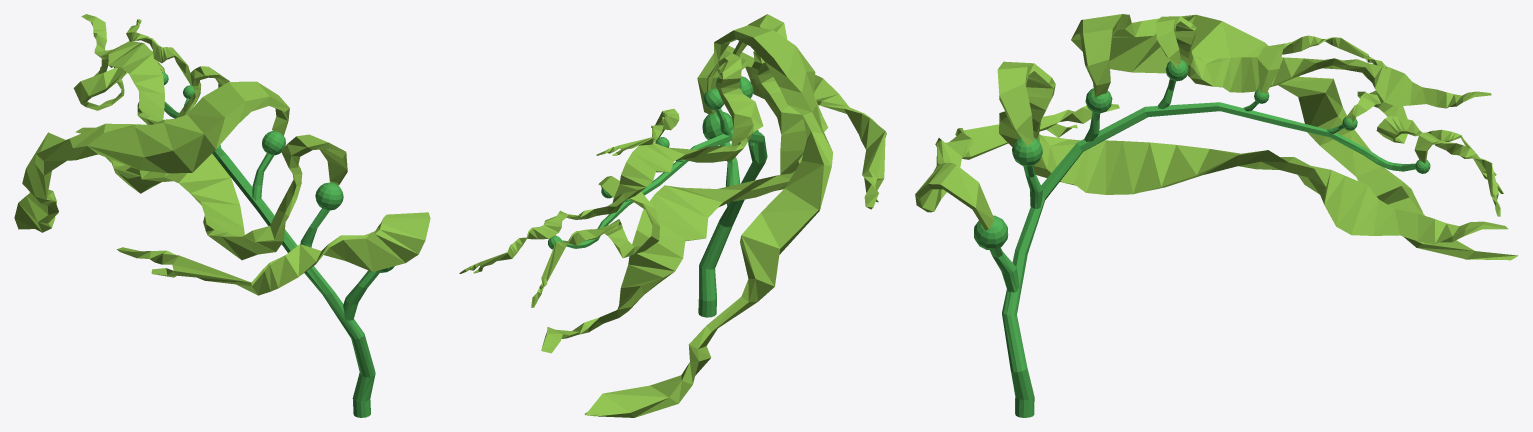
File: Seaweed1.glb
3 renders of one model, left to right at view 1: azimuth 30°, elevation 25°; view 2: azimuth 150°, elevation 25°; view 3: azimuth 270°, elevation 25°, orthographic. The views are drawn at different scales.
Parts seen in each view (by area): view 1: group54554051, group563104215, group713139748, group233375233, group708648747, group613521845, group1375527618, group631386608, group2036986636, group154447987, group1488446970, group1509656948; view 2: group54554051, group563104215, group233375233, group708648747, group713139748, group613521845, group1912093115, group1375527618, group490092115; view 3: group563104215, group54554051, group233375233, group708648747, group713139748, group613521845, group1375527618, group1912093115, group490092115, group2036986636, group631386608.
Part boxes in pixels (box(x1,y1,x2,y2)): group54554051: box(14, 81, 289, 232); group563104215: box(75, 127, 347, 260); group713139748: box(117, 212, 430, 295); group233375233: box(81, 14, 229, 124); group708648747: box(164, 101, 375, 417); group613521845: box(73, 59, 164, 110); group1375527618: box(126, 19, 192, 85); group631386608: box(343, 270, 379, 320); group2036986636: box(315, 182, 343, 210); group154447987: box(262, 131, 285, 155); group1488446970: box(252, 153, 274, 200); group1509656948: box(300, 208, 329, 247); group54554051: box(584, 25, 833, 417); group563104215: box(541, 14, 828, 353); group233375233: box(553, 53, 763, 223); group708648747: box(562, 129, 767, 317); group713139748: box(697, 45, 886, 209); group613521845: box(531, 176, 659, 307); group1912093115: box(459, 216, 562, 273); group1375527618: box(596, 108, 679, 155); group490092115: box(702, 111, 733, 139); group563104215: box(997, 61, 1507, 244); group54554051: box(1071, 14, 1517, 260); group233375233: box(1156, 16, 1491, 108); group708648747: box(1002, 102, 1415, 417); group713139748: box(915, 104, 1119, 230); group613521845: box(1346, 90, 1503, 193); group1375527618: box(1257, 35, 1386, 93); group1912093115: box(1414, 132, 1500, 216); group490092115: box(974, 215, 1008, 249); group2036986636: box(1012, 137, 1042, 166); group631386608: box(989, 247, 1019, 292).
Bounding box in the file's own units: 0.8115 × 1 × 1.55.
